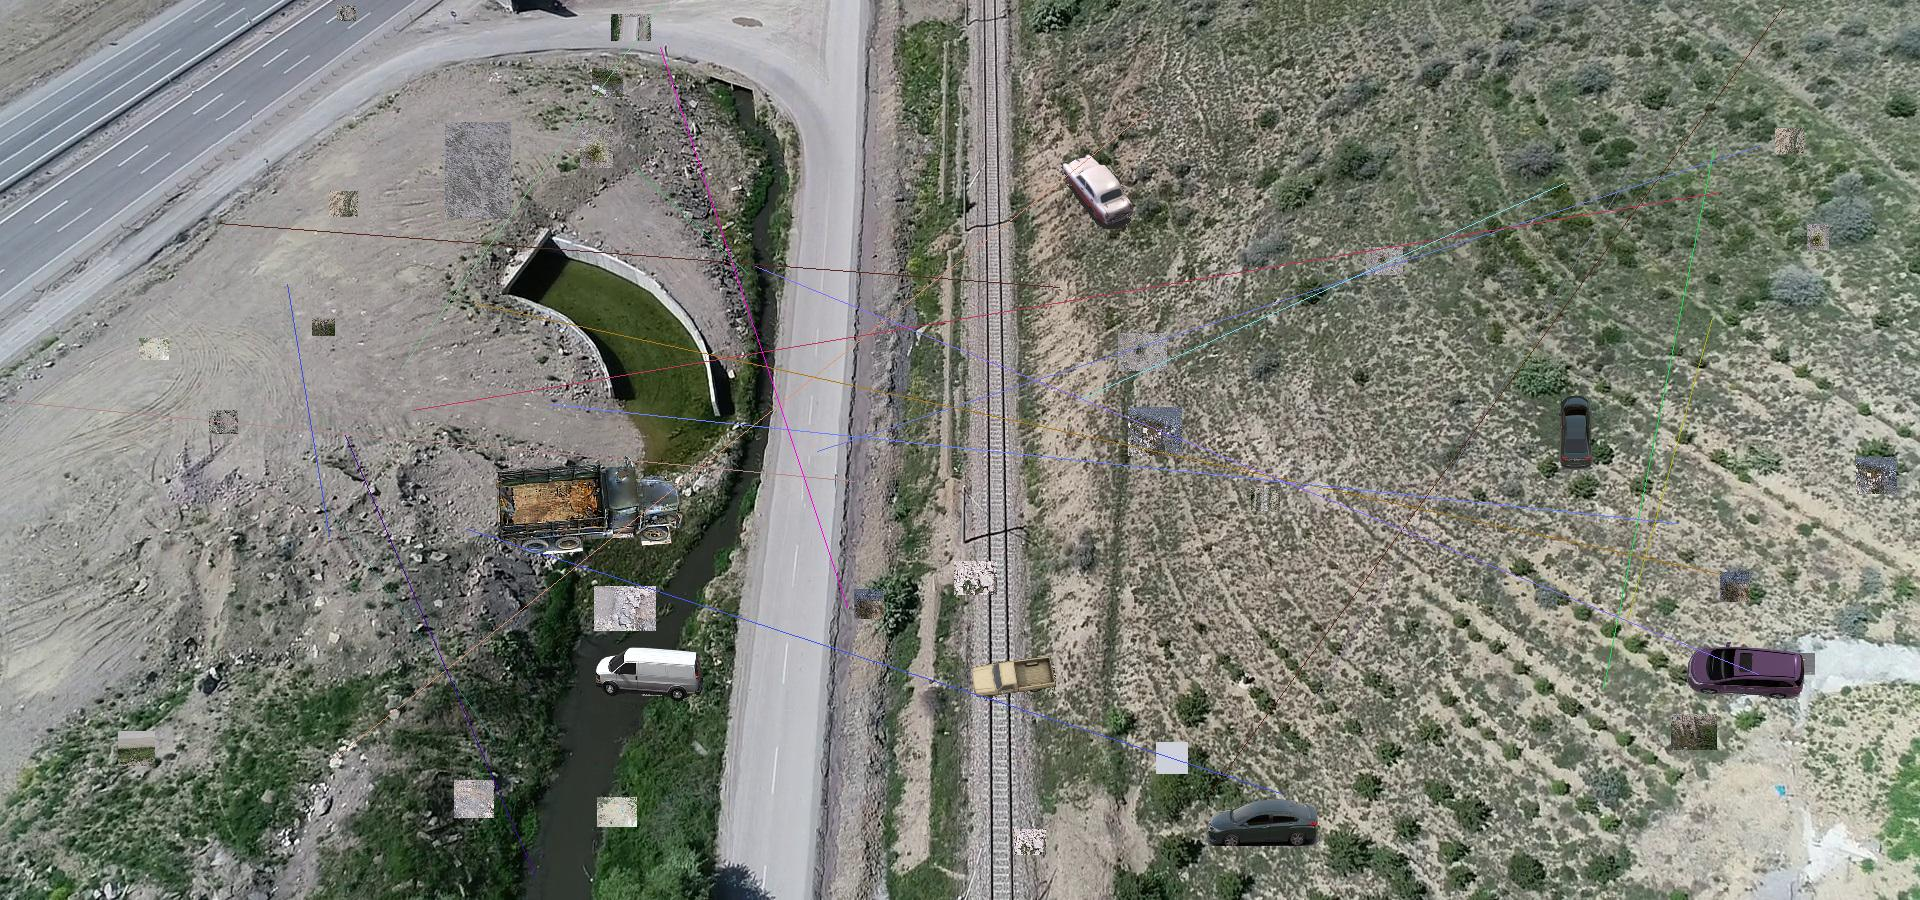arac: (493, 456, 683, 553), (1686, 640, 1805, 700), (1056, 149, 1135, 229), (596, 647, 703, 702), (1207, 797, 1321, 846), (972, 658, 1056, 700), (1556, 396, 1596, 471)
